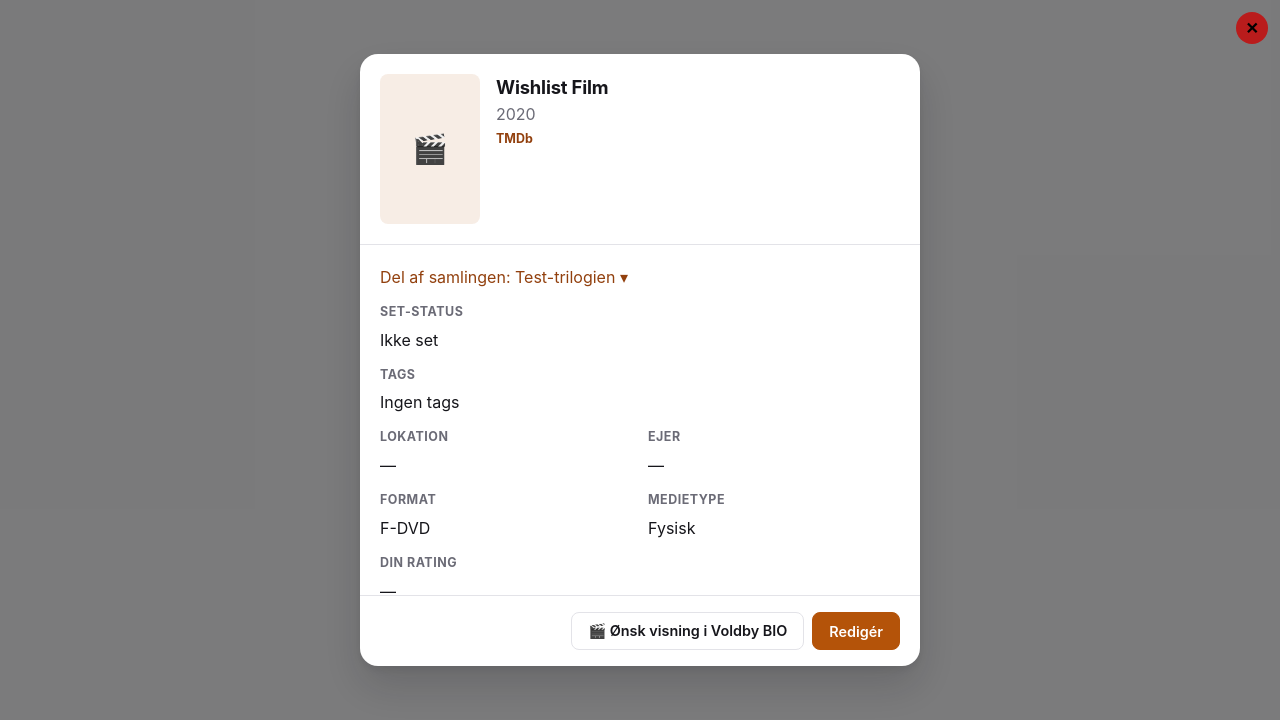
Scenario: CollectionSection — klikbare dele (feature #230) › viser backendens fejltekst når filmen ikke kan hentes
Click the button "Del af samlingen: Test-trilogien ▾": (504, 277) [380,265,628,289]
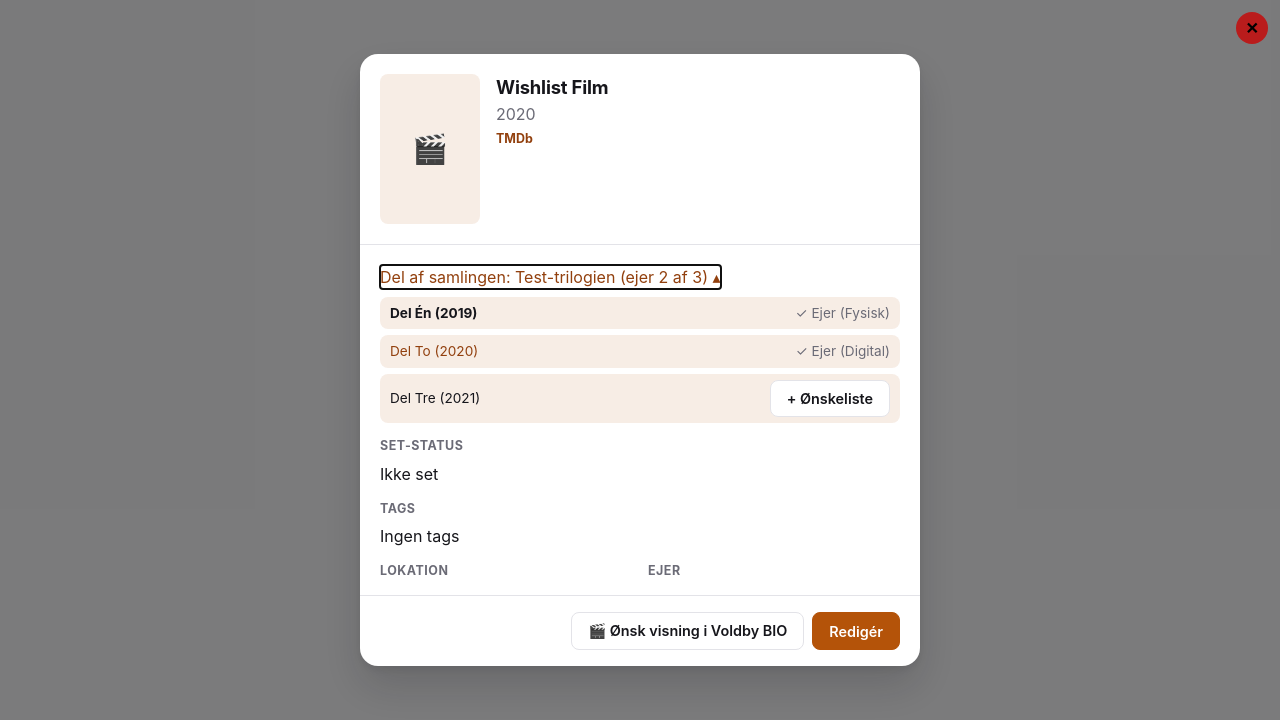
Click the button "Del To (2020)": (434, 352) [390,341,478,362]
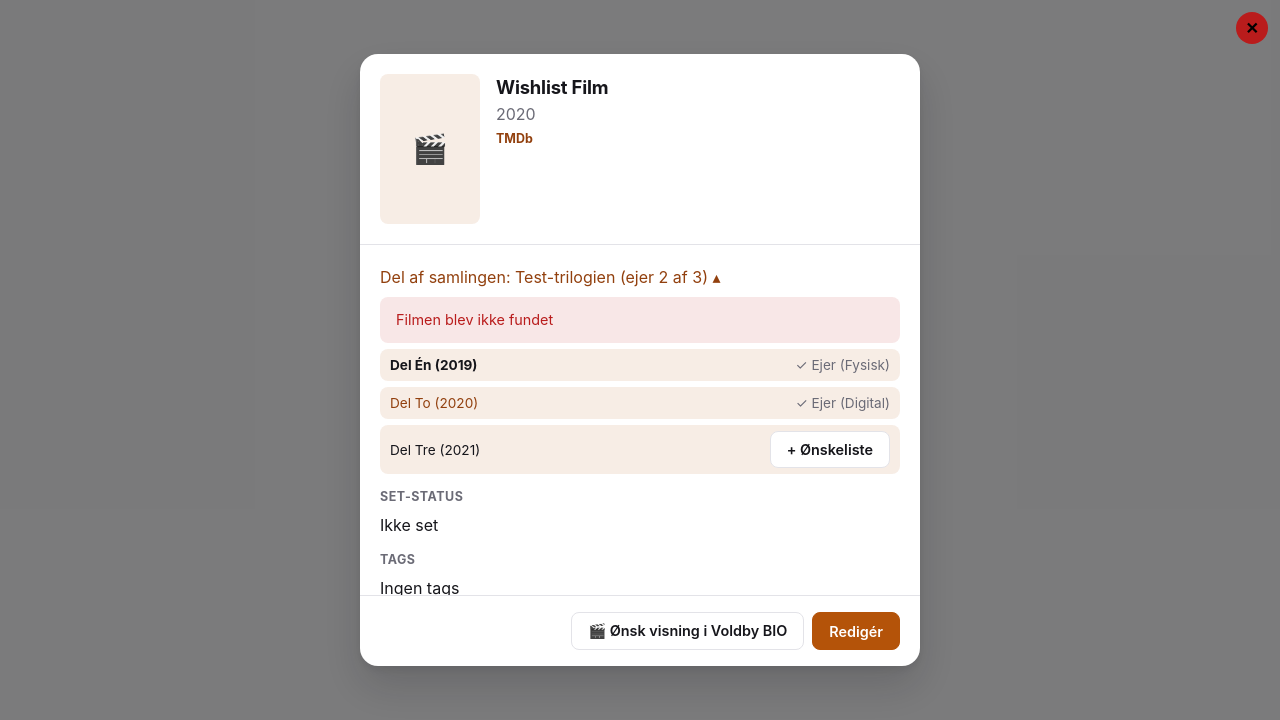
Check: the text "Filmen blev ikke fundet" is shown, box [380,297,900,343]
